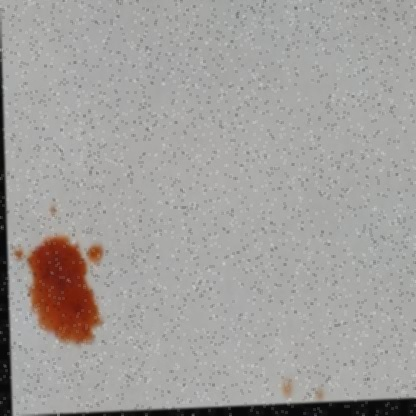kimchi: (11, 231, 112, 349), (48, 204, 71, 224), (280, 375, 297, 402), (317, 387, 333, 404)
